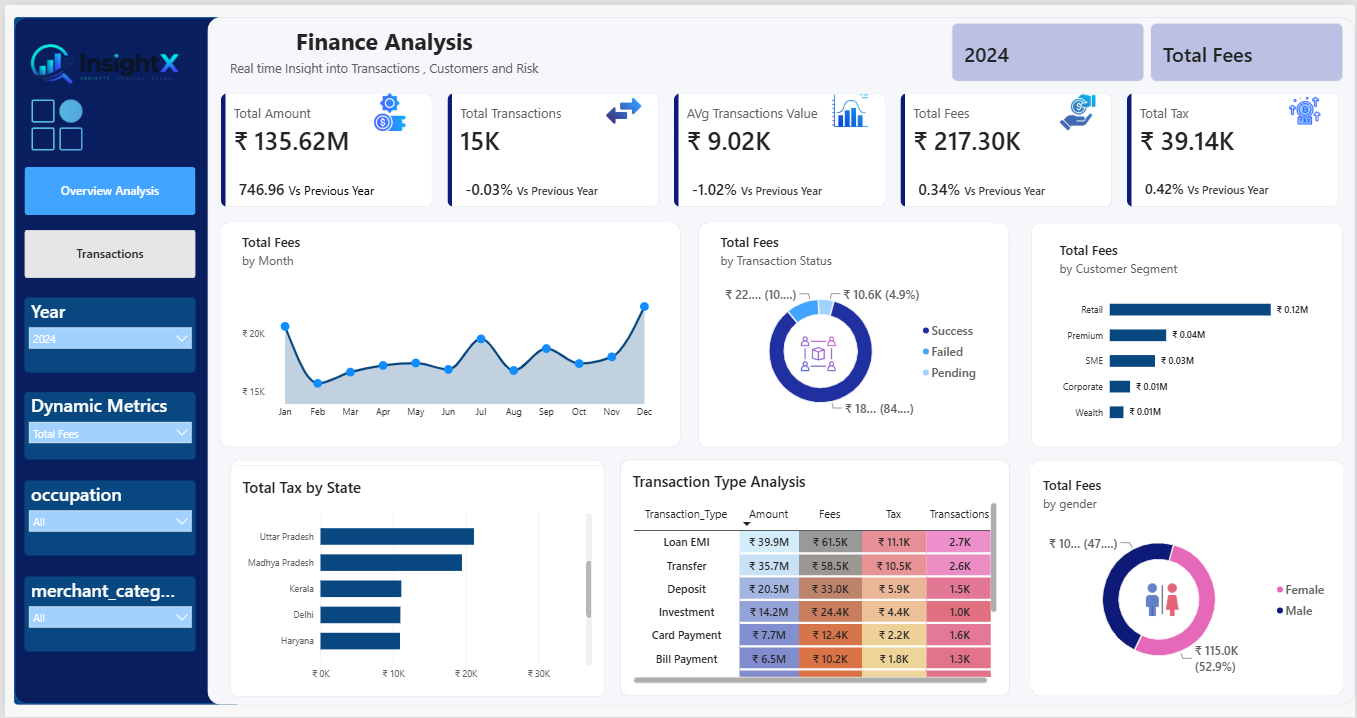

The page's visual inventory and layout, read from the dashboard file:
{"tool":"powerbi","page":{"name":"Overview Analysis","canvas":[1800,950],"ordinal":0},"visuals":[{"type":"shape","box":[11.1,15.5,301.2,917],"z":0},{"type":"shape","box":[270.2,15.5,1530,917],"z":1000},{"type":"image","box":[0,0,270.7,176.3],"z":2000},{"type":"card","fields":{"Values":["finance_transactions.Dashboard Title"]},"box":[287.5,14.7,451.2,94.4],"z":3000},{"type":"cardVisual","fields":{"Data":["finance_transactions.Total Amount","finance_transactions.Total Transactions","finance_transactions.AVg Transactions Value","finance_transactions.Total Fees","finance_transactions.Tax Amount"]},"box":[286.6,116.9,1497.2,155],"z":4000},{"type":"slicer","fields":{"Values":["Calendar Table.Year"]},"box":[26,390,228,100],"z":5000},{"type":"image","box":[488,118,50,50],"z":6000},{"type":"image","box":[800,116,50,50],"z":7000},{"type":"image","box":[1102,116,50,50],"z":8000},{"type":"image","box":[1402,118,56,50],"z":9000},{"type":"image","box":[1708,116,50,50],"z":10000},{"type":"slicer","fields":{"Values":["Dynamic Metrics.Dynamic Metrics"]},"box":[26,516,228,90],"z":11000},{"type":"shape","box":[286,290,615,300],"z":12000},{"type":"areaChart","fields":{"Y":["finance_transactions.Total Fees"],"Category":["Calendar Table.Month"]},"box":[300,290,586,282],"z":13000},{"type":"cardVisual","fields":{"Data":["finance_transactions.Selected Year","finance_transactions.Selected Dynamic Measure"]},"box":[1262,24,522,78],"z":14000},{"type":"shape","box":[924,290,415,300],"z":15000},{"type":"donutChart","fields":{"Y":["finance_transactions.Total Fees"],"Category":["finance_transactions.transaction_status"]},"box":[938,290,382,282],"z":16000},{"type":"shape","box":[1368,290,416,300],"z":17000},{"type":"barChart","fields":{"Y":["finance_transactions.Total Fees"],"Category":["customers.customer_segment"]},"box":[1390,300,372,282],"z":18000},{"type":"shape","box":[300,606,500,316],"z":19000},{"type":"barChart","title":"Total Tax by State","fields":{"Y":["finance_transactions.Total Fees"],"Category":["customers.state"]},"box":[300,614,500,308],"z":20000},{"type":"shape","box":[820,606,520,315],"z":21000},{"type":"tableEx","title":"Transaction Type Analysis","fields":{"Values":["finance_transactions.transaction_type","finance_transactions.Total Amount","finance_transactions.Total Fees","finance_transactions.Total Tax","finance_transactions.Total Transactions"]},"box":[820,606,520,316],"z":22000},{"type":"shape","box":[1368,606,416,316],"z":23000},{"type":"donutChart","fields":{"Y":["finance_transactions.Total Fees"],"Category":["customers.gender"]},"box":[1368,614,416,296],"z":24000},{"type":"image","box":[1036,440,96,50],"z":25000},{"type":"image","box":[1494,768,98,50],"z":26000},{"type":"slicer","fields":{"Values":["customers.occupation"]},"box":[26,634,228,100],"z":27000},{"type":"slicer","fields":{"Values":["finance_transactions.merchant_category"]},"box":[26,762,228,100],"z":28000},{"type":"pageNavigator","box":[26,216,228,148],"z":28001},{"type":"image","box":[26,126,86,68],"z":28002}]}

Visuals, with their boxes in screenshot pixels (x1, y1, x2, y2), scaled from the page's 1800x950 canvas onto the 1357x718 screenshot:
shape: BBox(8, 12, 235, 705)
shape: BBox(204, 12, 1356, 705)
image: BBox(0, 0, 204, 133)
card - finance_transactions.Dashboard Title: BBox(217, 11, 557, 82)
cardVisual - finance_transactions.Total Amount x finance_transactions.Total Transactions: BBox(216, 88, 1345, 205)
slicer - Calendar Table.Year: BBox(20, 295, 191, 370)
image: BBox(368, 89, 406, 127)
image: BBox(603, 88, 641, 125)
image: BBox(831, 88, 868, 125)
image: BBox(1057, 89, 1099, 127)
image: BBox(1288, 88, 1325, 125)
slicer - Dynamic Metrics.Dynamic Metrics: BBox(20, 390, 191, 458)
shape: BBox(216, 219, 679, 446)
areaChart - finance_transactions.Total Fees x Calendar Table.Month: BBox(226, 219, 668, 432)
cardVisual - finance_transactions.Selected Year x finance_transactions.Selected Dynamic Measure: BBox(951, 18, 1345, 77)
shape: BBox(697, 219, 1009, 446)
donutChart - finance_transactions.Total Fees x finance_transactions.transaction_status: BBox(707, 219, 995, 432)
shape: BBox(1031, 219, 1345, 446)
barChart - finance_transactions.Total Fees x customers.customer_segment: BBox(1048, 227, 1328, 440)
shape: BBox(226, 458, 603, 697)
"Total Tax by State" barChart: BBox(226, 464, 603, 697)
shape: BBox(618, 458, 1010, 696)
"Transaction Type Analysis" tableEx: BBox(618, 458, 1010, 697)
shape: BBox(1031, 458, 1345, 697)
donutChart - finance_transactions.Total Fees x customers.gender: BBox(1031, 464, 1345, 688)
image: BBox(781, 333, 853, 370)
image: BBox(1126, 580, 1200, 618)
slicer - customers.occupation: BBox(20, 479, 191, 555)
slicer - finance_transactions.merchant_category: BBox(20, 576, 191, 651)
pageNavigator: BBox(20, 163, 191, 275)
image: BBox(20, 95, 84, 147)
